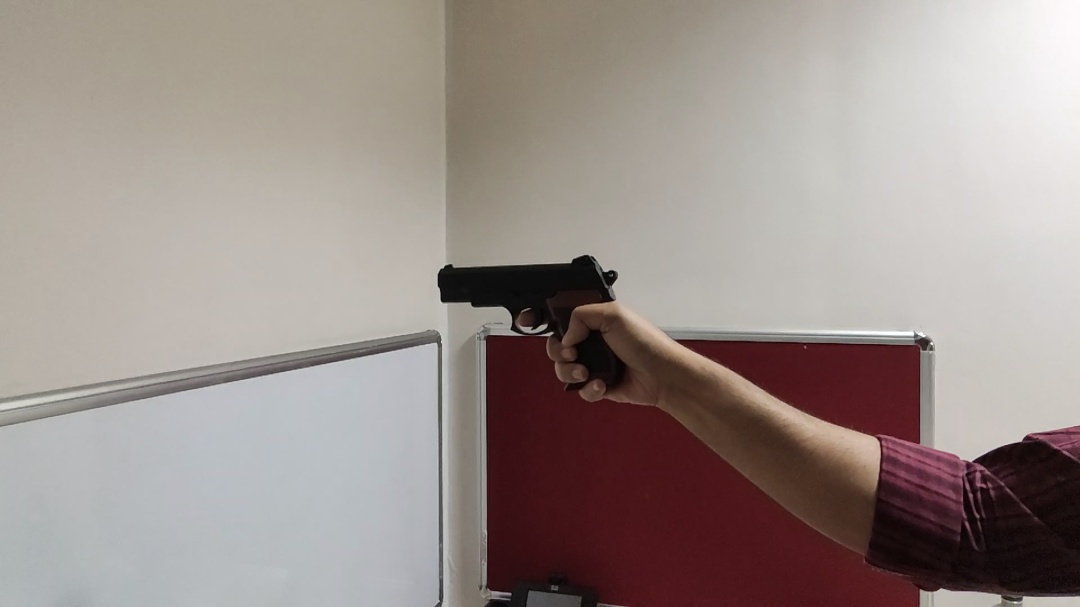gun: (436, 254, 629, 394)
